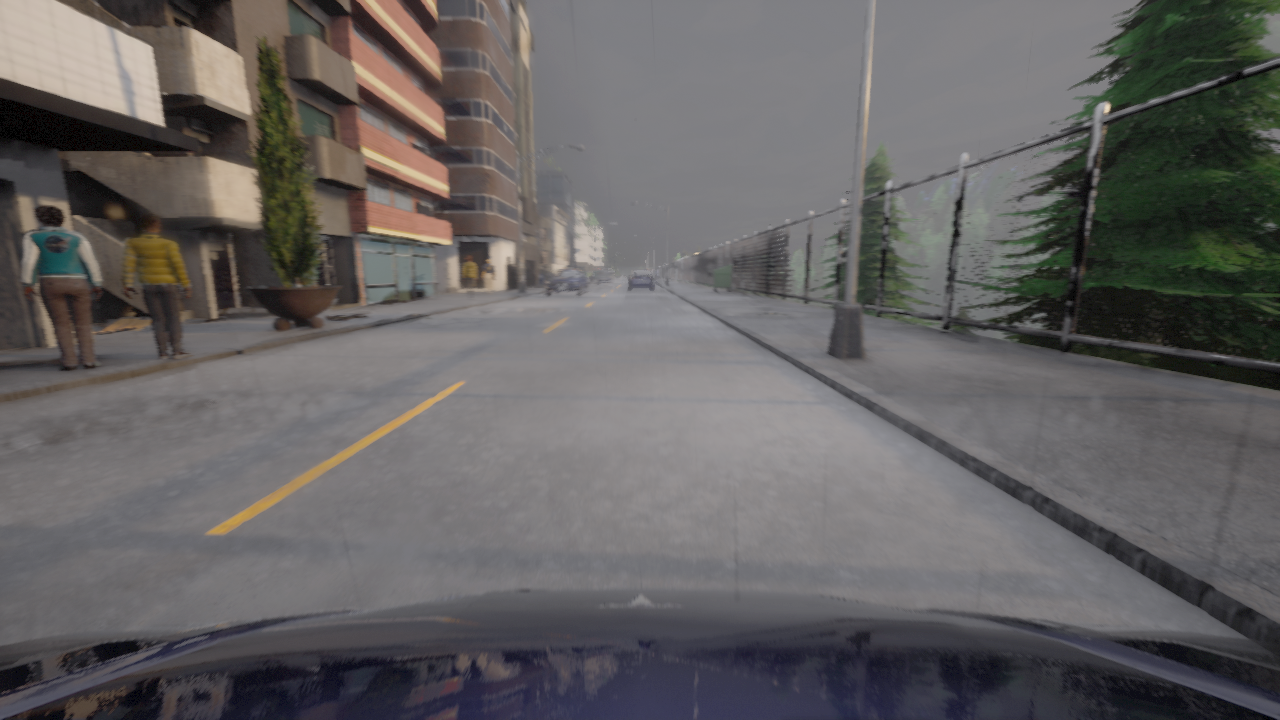cyclist: (0, 588, 1279, 719), (543, 270, 588, 296), (626, 270, 653, 289), (597, 270, 612, 283)
pedestrian: (20, 205, 101, 371), (121, 213, 191, 359), (461, 256, 476, 300), (482, 260, 494, 294)
